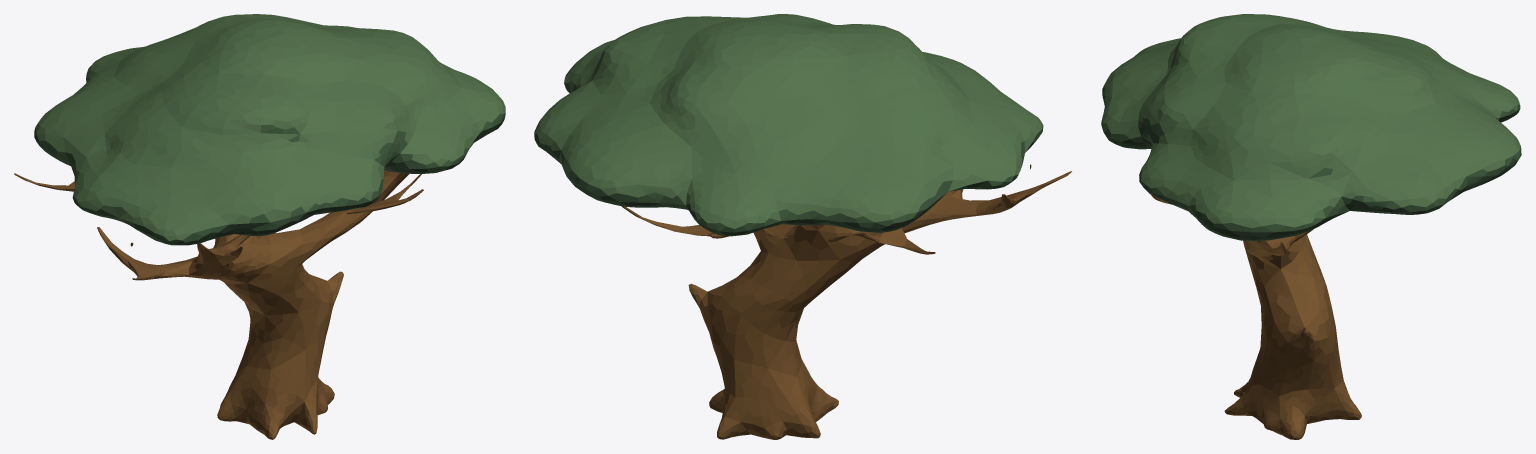
Rendered from prop_stone_pine.glb.
The picture shows the model from 3 angles, left to right: view 1: azimuth 30°, elevation 25°; view 2: azimuth 150°, elevation 25°; view 3: azimuth 270°, elevation 25°; orthographic projection. The views are drawn at different scales.
Visible parts, largest first — view 1: LeafCanopy, Trunk; view 2: LeafCanopy, Trunk; view 3: LeafCanopy, Trunk.
Boxes of the visible parts, bbox=[...] form: LeafCanopy: bbox=[34, 14, 505, 245]; Trunk: bbox=[14, 170, 423, 439]; LeafCanopy: bbox=[534, 14, 1043, 236]; Trunk: bbox=[622, 164, 1071, 439]; LeafCanopy: bbox=[1101, 14, 1521, 241]; Trunk: bbox=[1151, 195, 1361, 439].
Size of the model in its own units: 1.12 by 0.9638 by 0.985.
